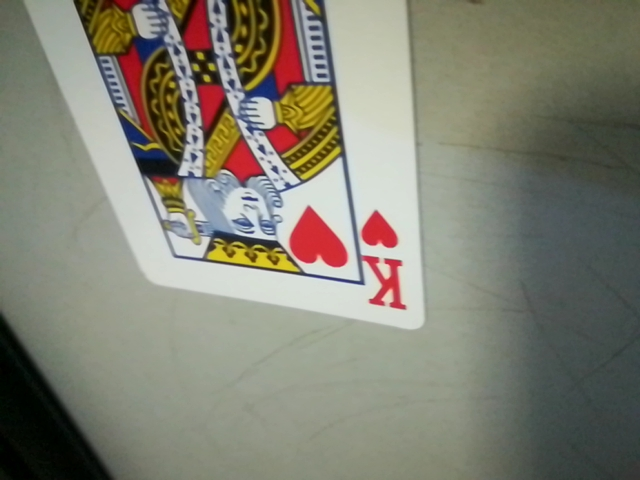hx k: (353, 203, 421, 319)
